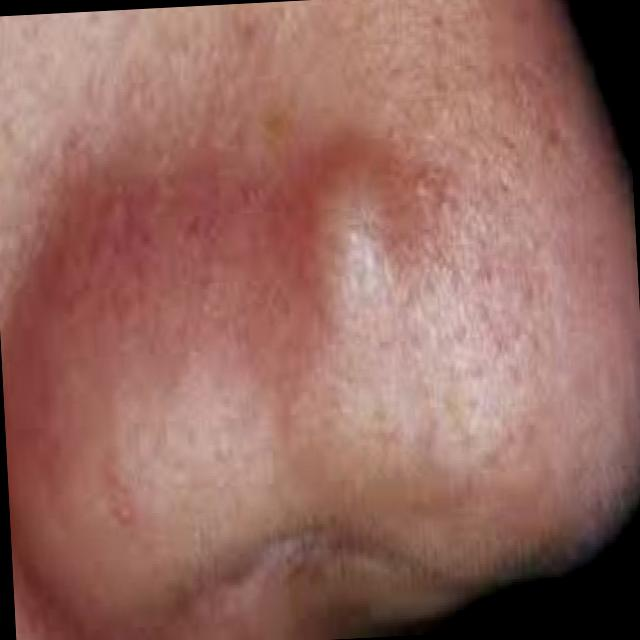nodule: (303, 138, 420, 344)
